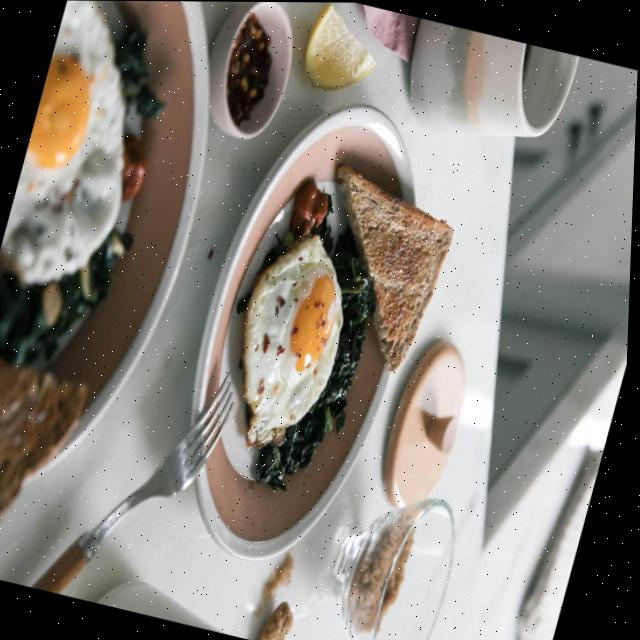Bread: (337, 164, 453, 371), (0, 359, 89, 522)
Egg: (1, 0, 125, 283), (243, 234, 344, 445)
